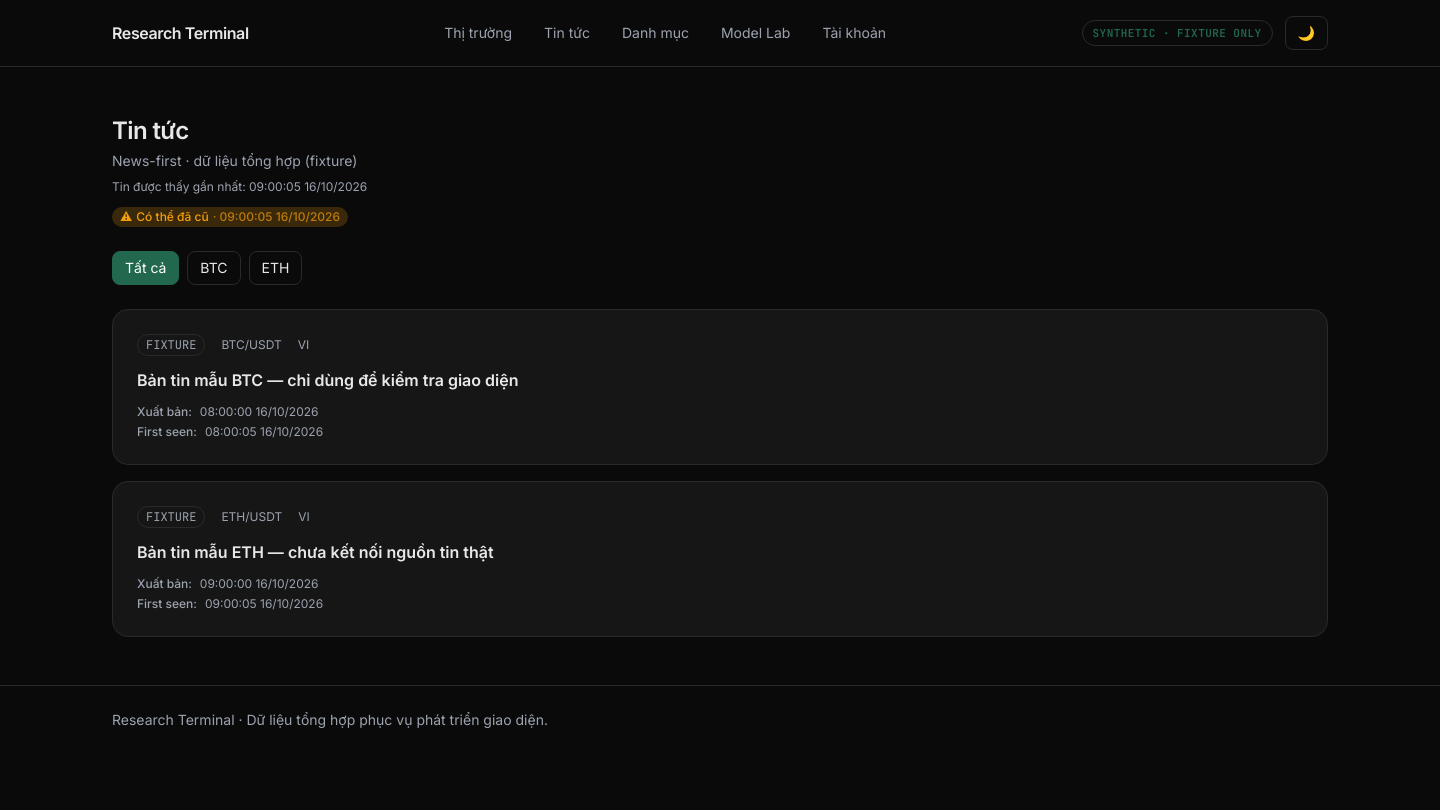
Test: terminal shell › loads synthetic fixture news and navigates between routes
The image size is (1440, 810).
Expected: the heading "Tin tức" is shown, [112,116,189,145]
Expected: the heading "Bản tin mẫu BTC — chỉ dùng để kiểm tra giao diện" is shown, [137,370,518,390]
Click the link "Tài khoản".
click(854, 32)  # box [822,24,886,41]
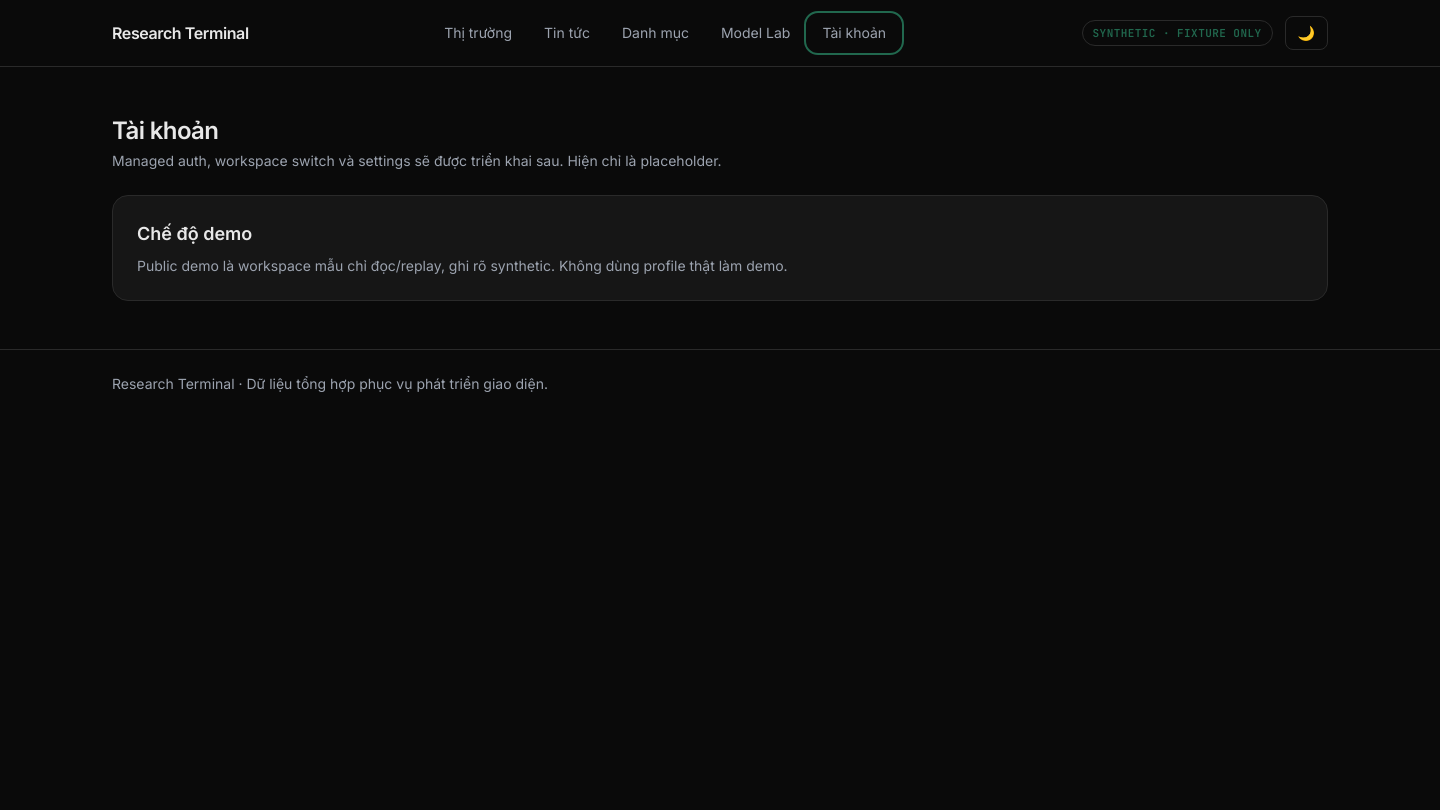
Now the heading "Tài khoản" is shown, box [112,116,218,145]
